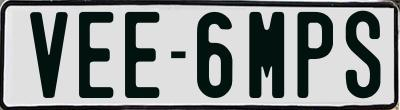6: (195, 11, 230, 101)
E: (77, 10, 116, 102), (124, 11, 158, 102)
M: (246, 12, 282, 101)
P: (297, 9, 333, 98)
S: (344, 10, 379, 97)
V: (27, 10, 65, 102)
